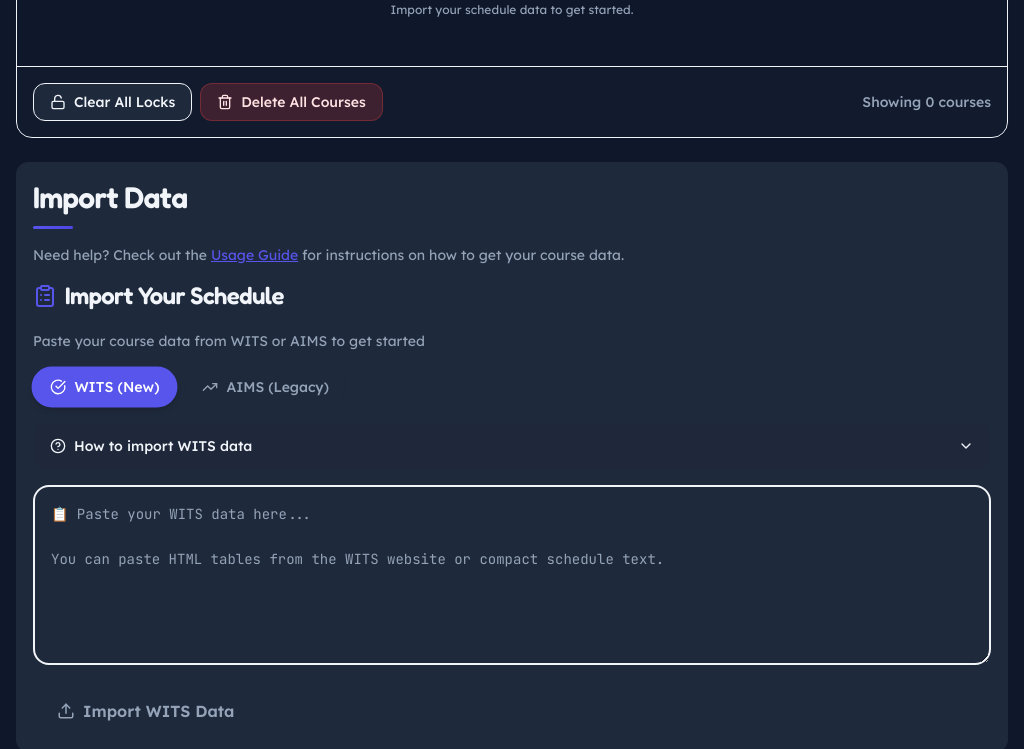
App Integration › shows error state when import fails
(page scrolled)
Click the button with aria-label "select aims": (266, 387) top-left (184, 367), bottom-right (347, 407)
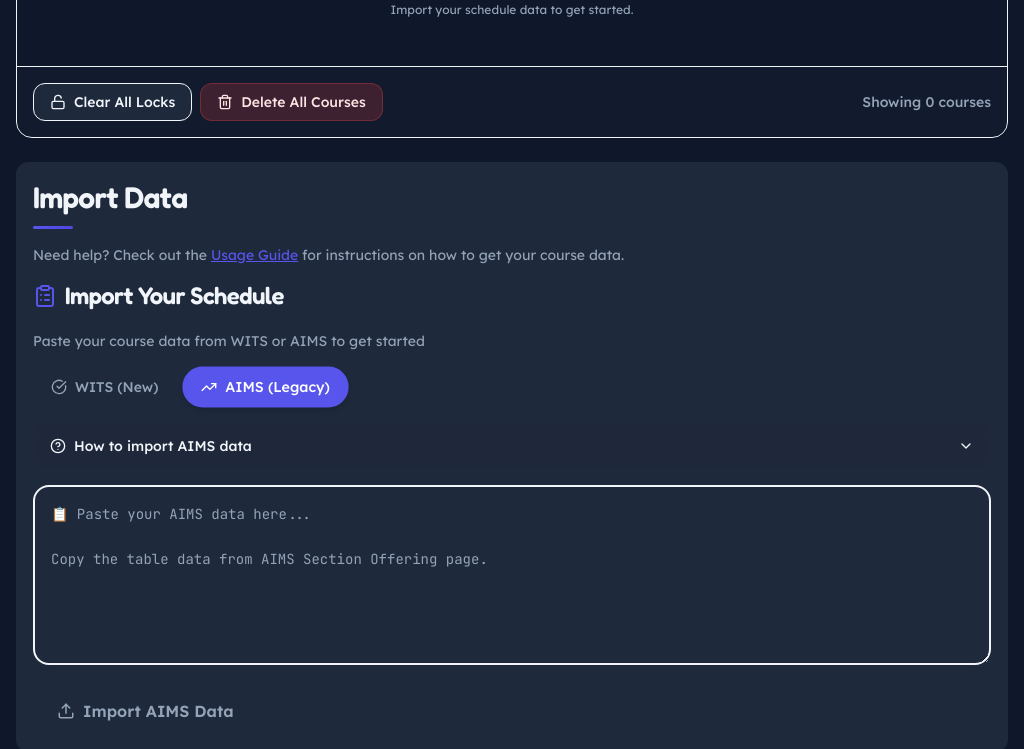
Replace the text in the text box named "AIMS (Legacy) data input" with "invalid": (512, 575) top-left (33, 485), bottom-right (991, 665)
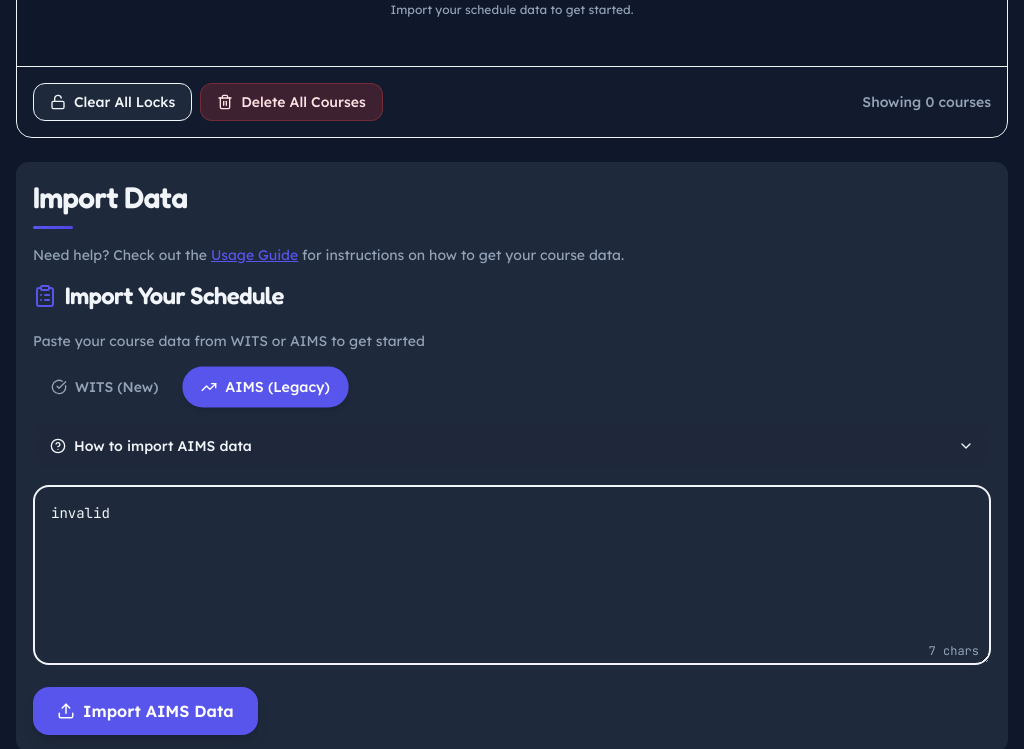
Click the button "Import AIMS Data": (145, 711) top-left (33, 687), bottom-right (258, 735)
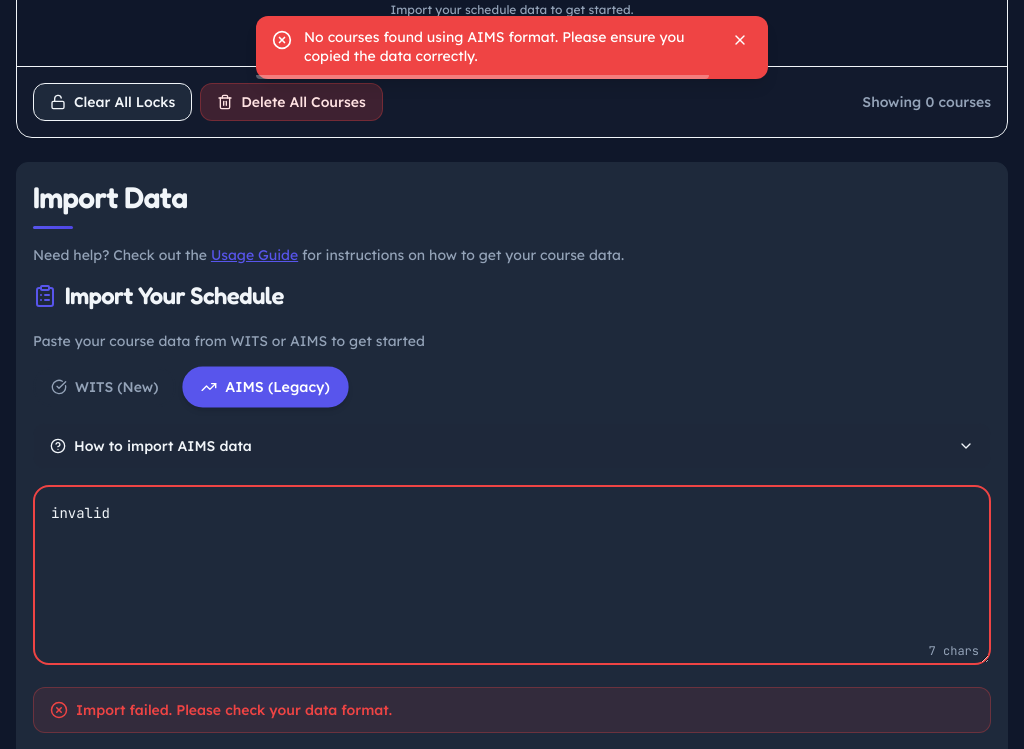
Result: the text "No courses found using AIMS format" is shown at top-left (304, 28), bottom-right (685, 65)
